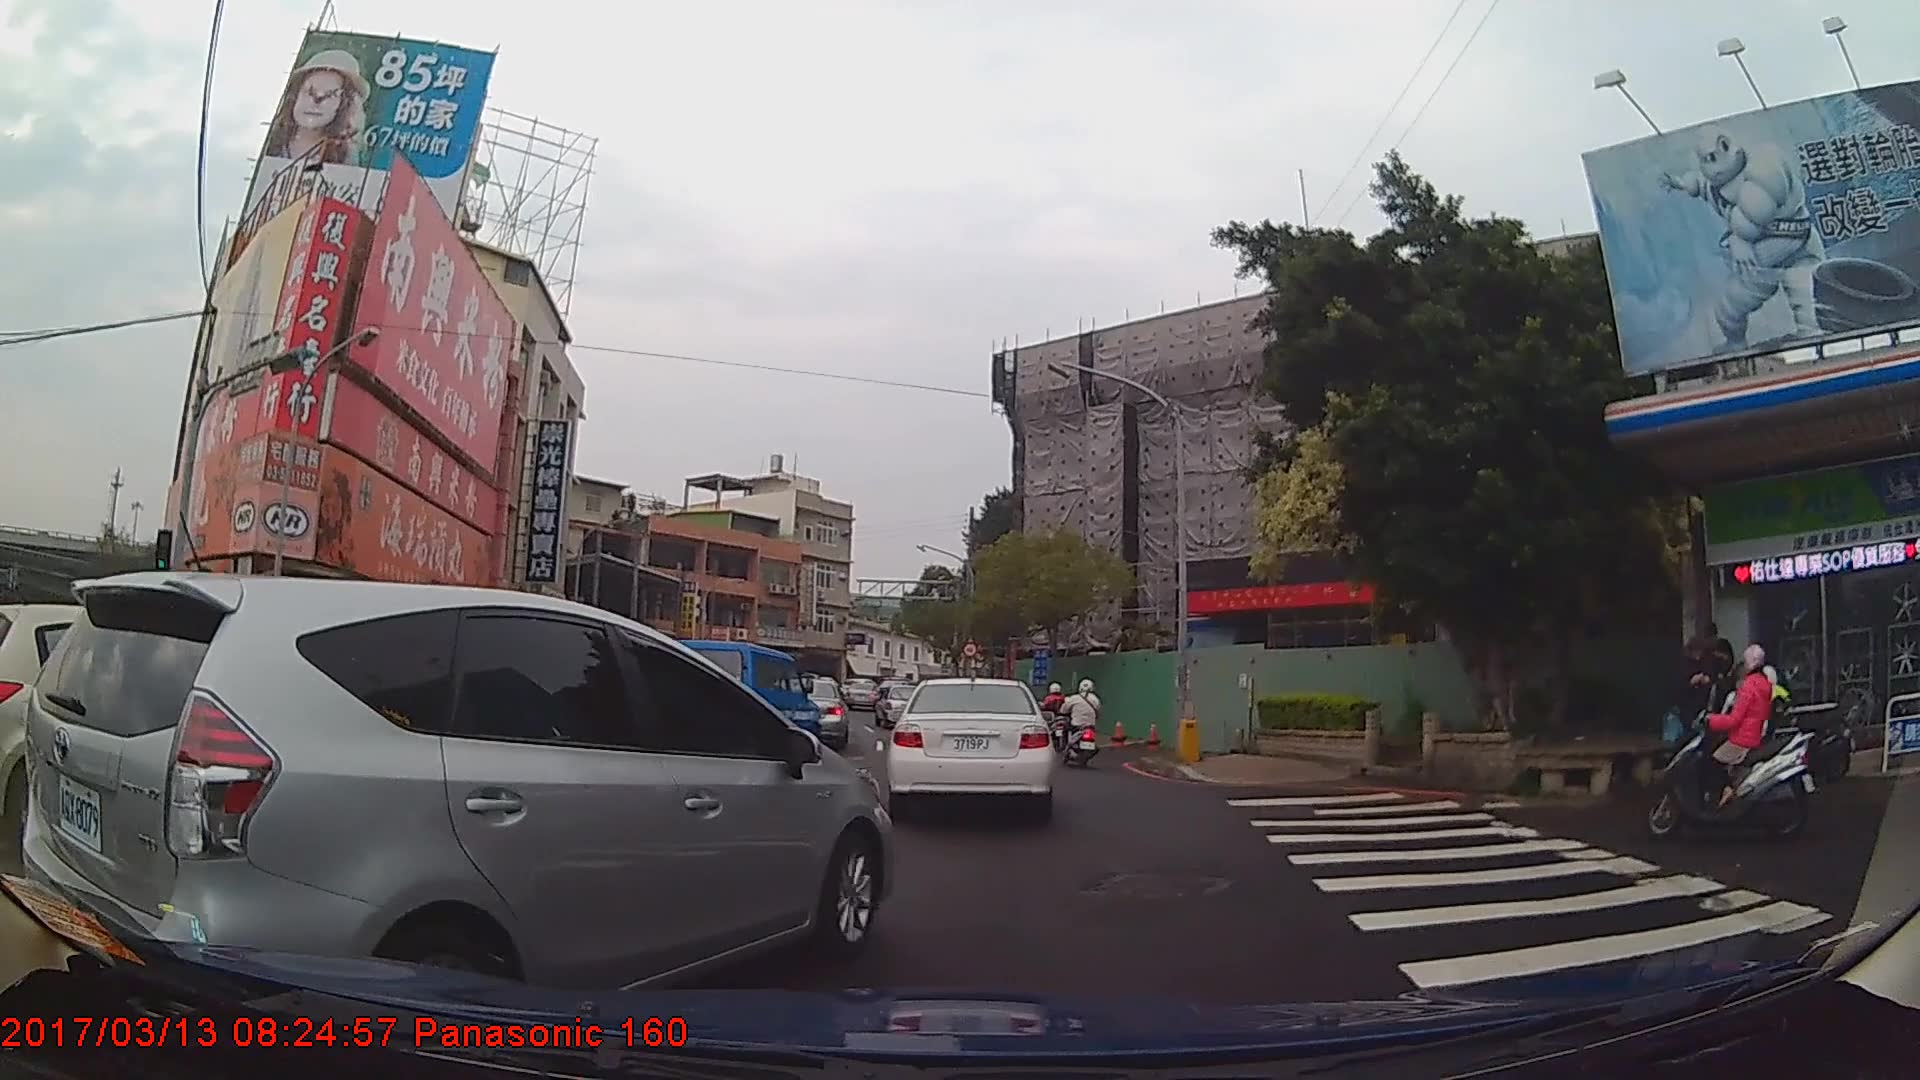pedestrian: (1685, 637, 1738, 806), (1695, 621, 1742, 749)
rider: (1644, 640, 1821, 841), (1066, 679, 1101, 768), (1041, 681, 1074, 752)
vehicle: (19, 570, 899, 1041), (885, 675, 1058, 824), (774, 679, 850, 751)
